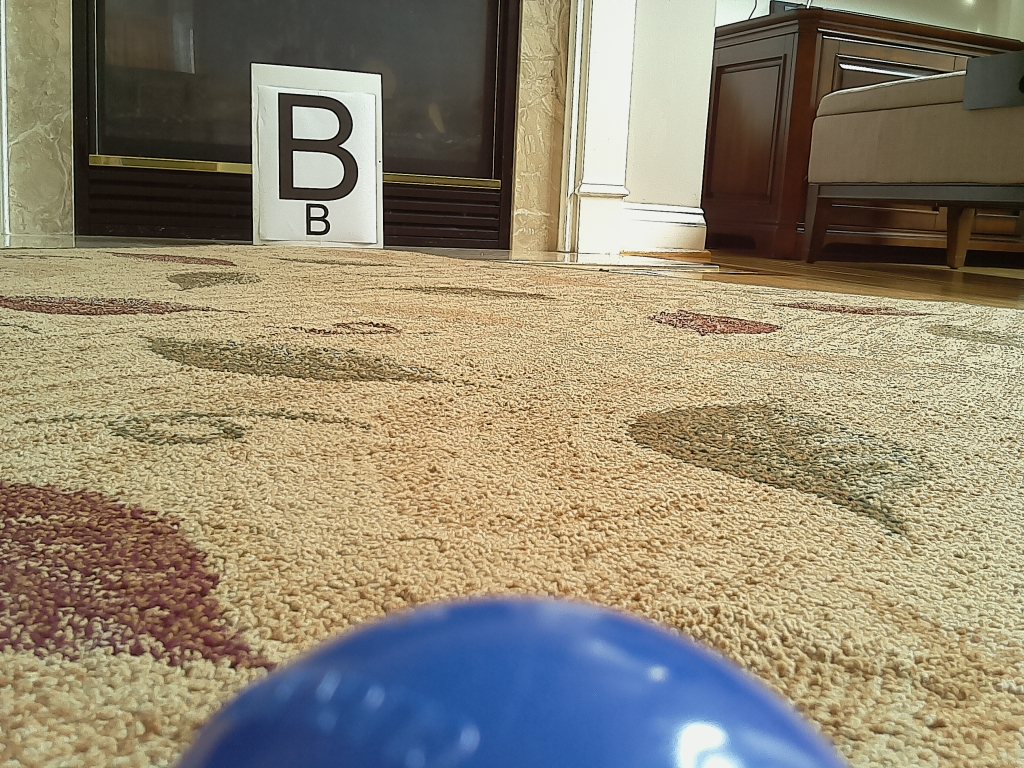letter: (278, 93, 359, 203)
